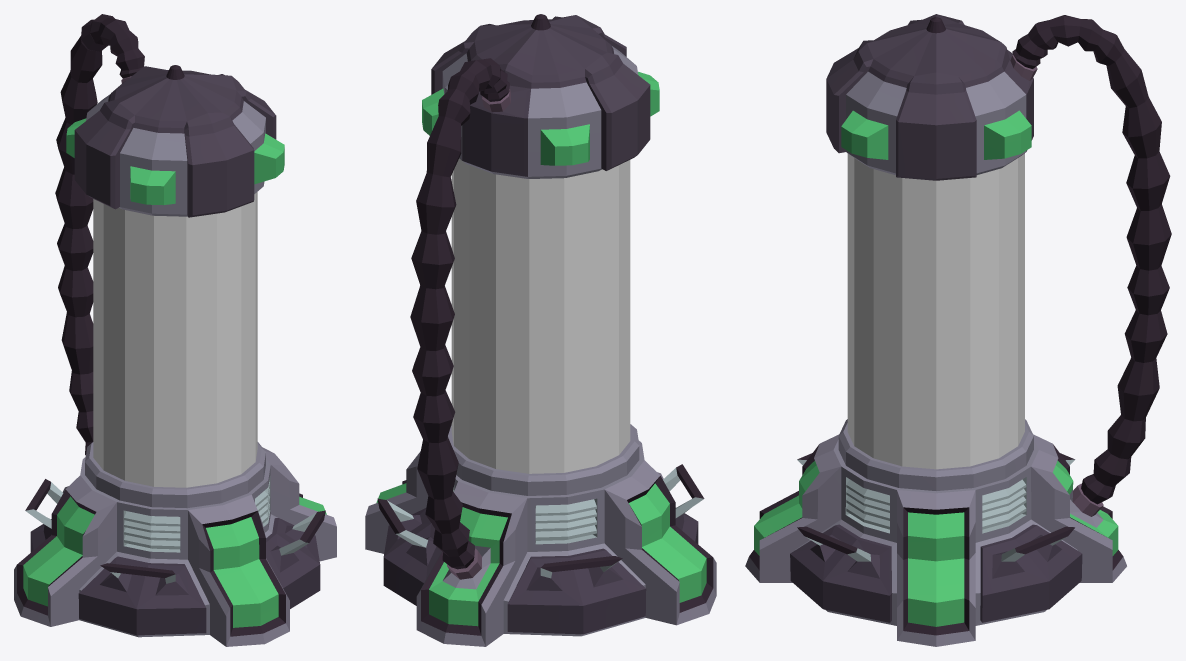
Rendered from Containment.fbx.
3 views of the same model, side by side, from view 1: azimuth 30°, elevation 25°; view 2: azimuth 150°, elevation 25°; view 3: azimuth 270°, elevation 25° (orthographic). The views are drawn at different scales.
Parts seen in each view (by area): view 1: ContainmentBase, ContainmentGlass; view 2: ContainmentBase, ContainmentGlass; view 3: ContainmentBase, ContainmentGlass.
Boxes of the visible parts, x1,y1,x2,y2 form: ContainmentBase: (14,14,336,646); ContainmentGlass: (93,192,257,487); ContainmentBase: (365,14,716,646); ContainmentGlass: (451,158,630,473); ContainmentBase: (745,14,1171,646); ContainmentGlass: (847,153,1024,469).
Bounding box in the file's own units: 681 × 1082 × 760.
